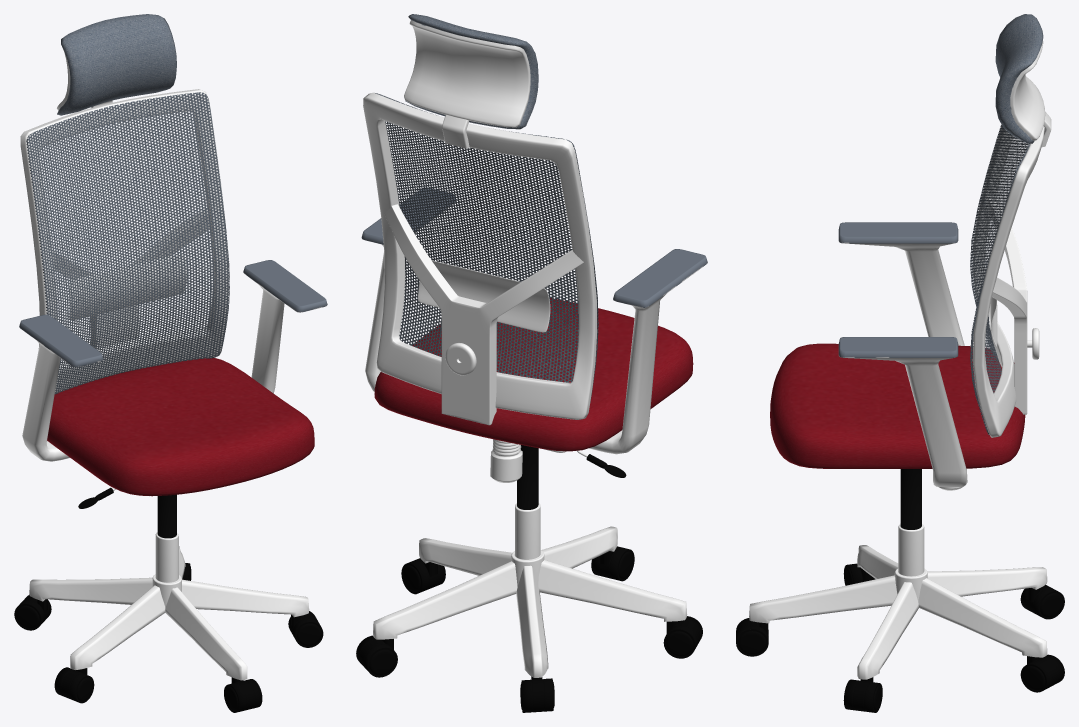
Rendered from chair_62_02.001.fbx.
3 views of the same model, side by side, from view 1: azimuth 30°, elevation 25°; view 2: azimuth 150°, elevation 25°; view 3: azimuth 270°, elevation 25° (orthographic). The views are drawn at different scales.
Visible parts, largest first — view 1: chair_62_02.001; view 2: chair_62_02.001; view 3: chair_62_02.001.
Boxes of the visible parts, x1,y1,x2,y2 form: chair_62_02.001: (14, 14, 327, 712); chair_62_02.001: (356, 14, 707, 712); chair_62_02.001: (736, 14, 1064, 712).
Size of the model in its own units: 51.37 by 110 by 53.32.
Materials: 1 (1 with a texture image).
